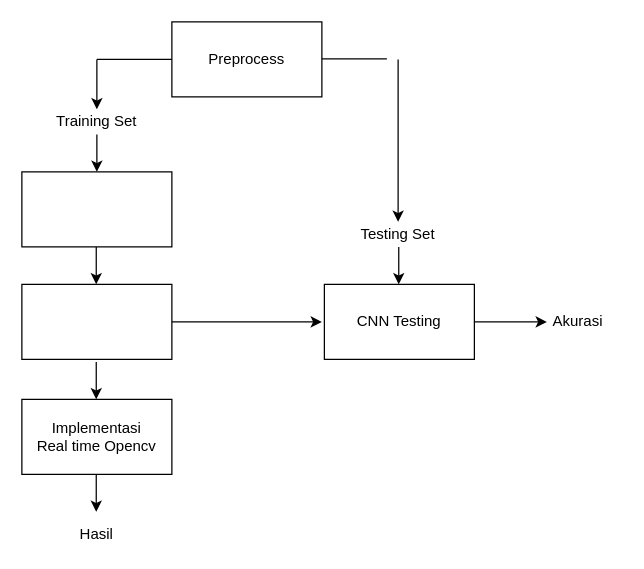
The diagram is 644 pixels wide and 569 high, and some of its shapes have lost their labels. Here are the shapes that lost their labels. From the top down, the box of each, then its label:
(21, 171, 172, 247): CNN Training
(21, 283, 172, 359): Model CNN
